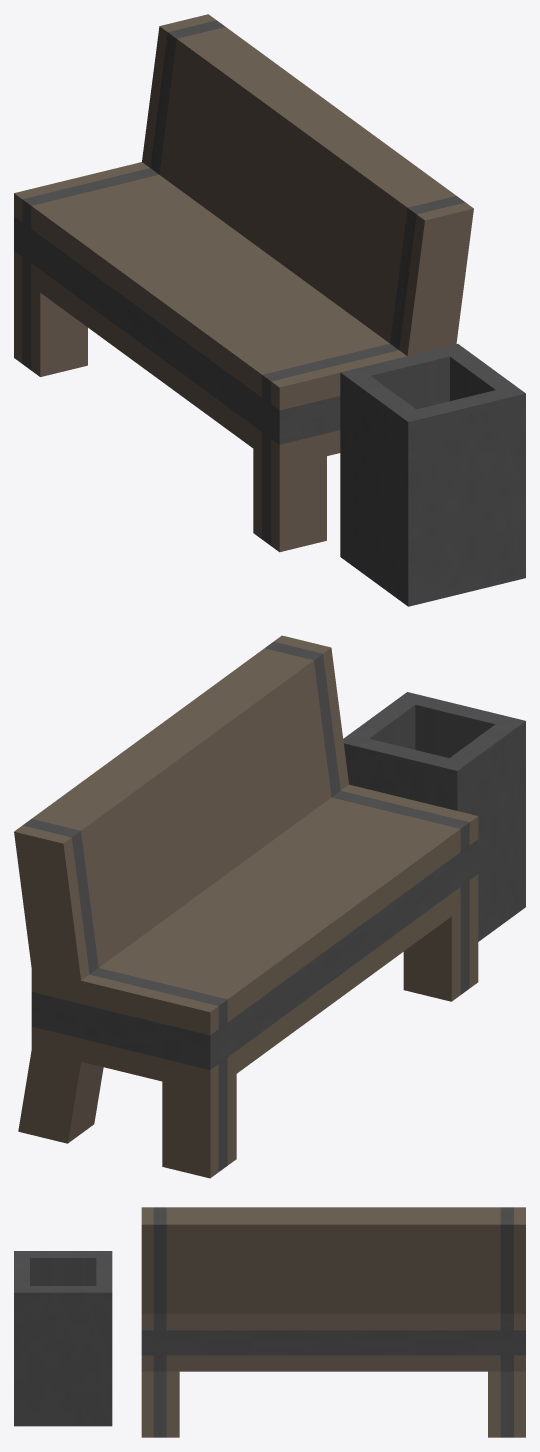
File: Bench.fbx
The picture shows the model from 3 angles, top to bottom: view 1: azimuth 30°, elevation 25°; view 2: azimuth 150°, elevation 25°; view 3: azimuth 270°, elevation 25°; orthographic projection. The views are drawn at different scales.
Parts seen in each view (by area): view 1: Bench; view 2: Bench; view 3: Bench.
Boxes of the visible parts, x1=… form: Bench: x1=14, y1=14, x2=525, y2=606; Bench: x1=14, y1=635, x2=525, y2=1178; Bench: x1=14, y1=1207, x2=525, y2=1437.
Size of the model in its own units: 93.42 by 136 by 294.
